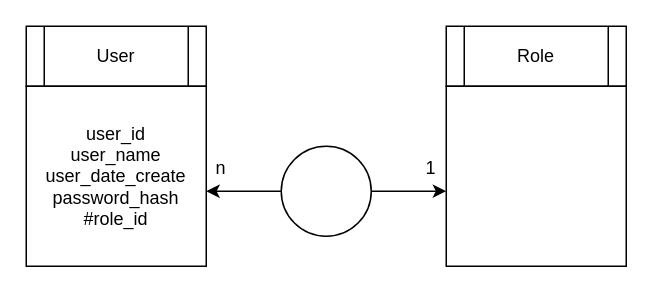
Image size: 653x293. Some labels were removed from this diagram. The shapes that lost their labels are listed below. From the top down, each one's centre as x and y in pixels, then its label:
(325,190): Possède
(535,175): role_id role_name
